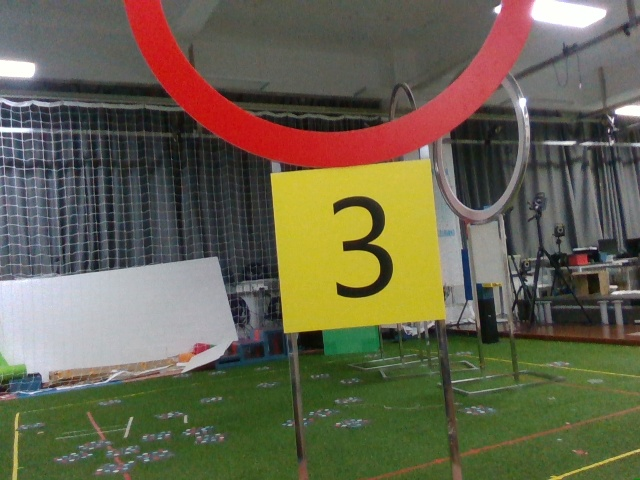target: (285, 169, 433, 321)
